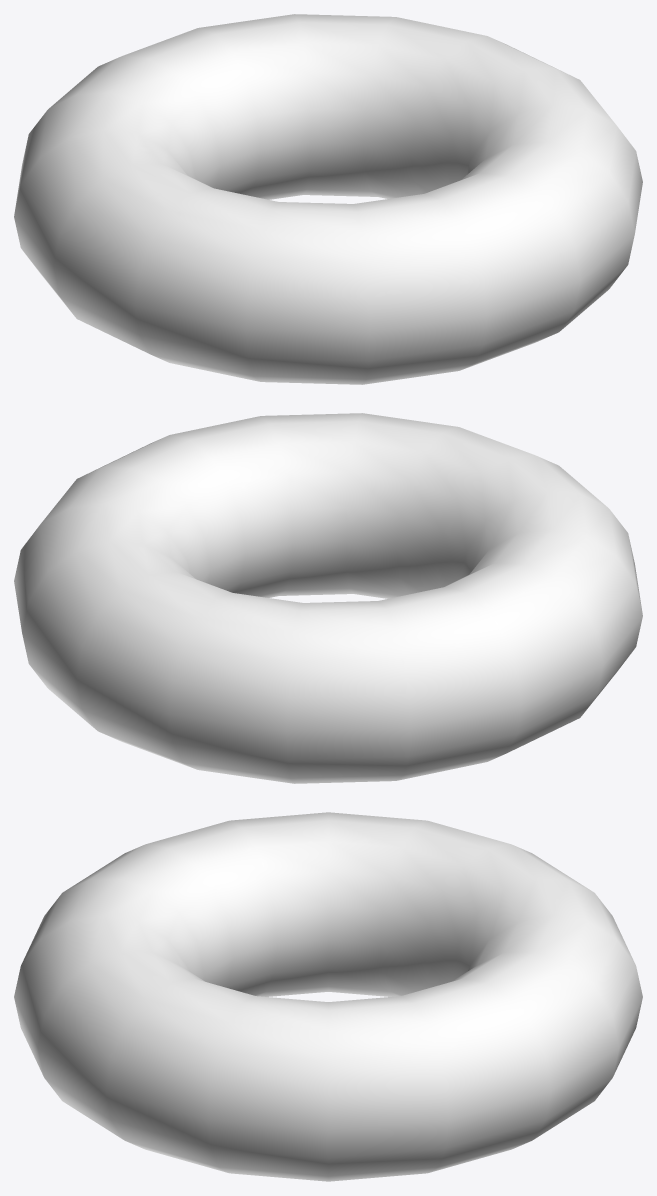
3 renders of one model, top to bottom at view 1: azimuth 30°, elevation 25°; view 2: azimuth 150°, elevation 25°; view 3: azimuth 270°, elevation 25°, orthographic.
Visible parts, largest first — view 1: Torus; view 2: Torus; view 3: Torus.
Part boxes in pixels (<box>): Torus: <box>14,14,642,384</box>; Torus: <box>14,413,642,783</box>; Torus: <box>14,812,642,1181</box>.
Bounding box in the file's own units: 2.8 × 0.8 × 2.8.
Materials: 1 (1 with a texture image).
